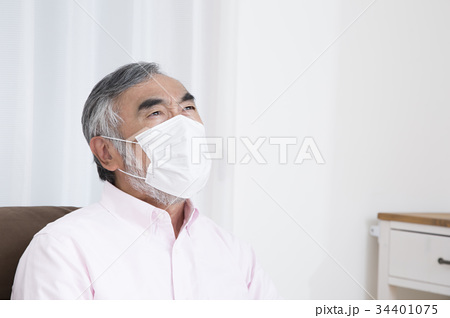mask: (135, 119, 219, 197)
